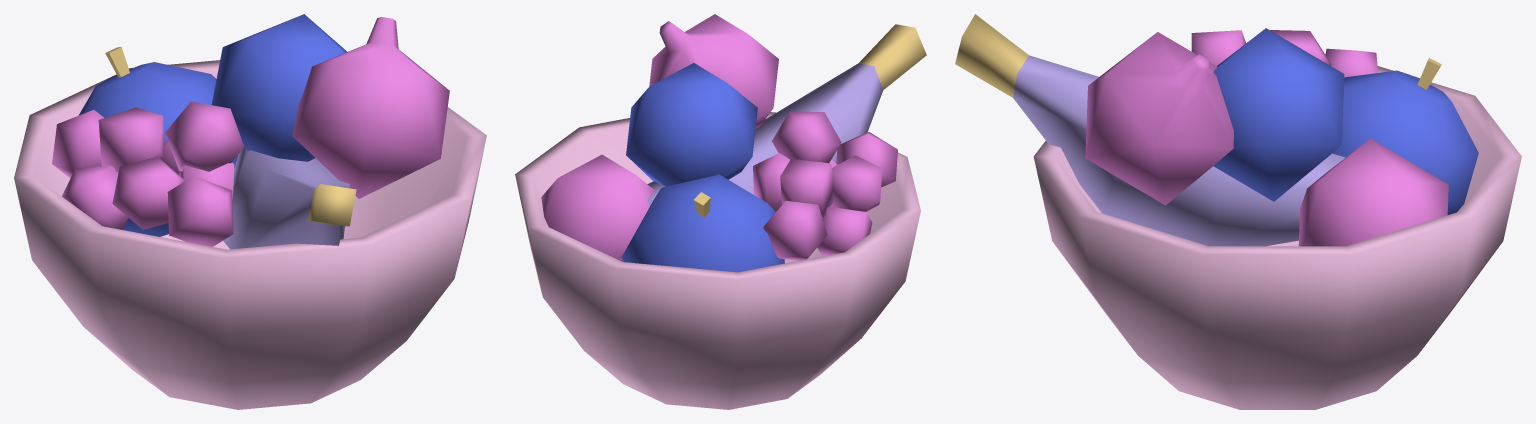
The model's file is Fruit.fbx.
3 renders of one model, left to right at view 1: azimuth 30°, elevation 25°; view 2: azimuth 150°, elevation 25°; view 3: azimuth 270°, elevation 25°, orthographic. The views are drawn at different scales.
Visible parts, largest first — view 1: Icosphere.002; view 2: Icosphere.002; view 3: Icosphere.002.
Part boxes in pixels (box(x1,y1,x2,y2)): Icosphere.002: box(14, 14, 486, 409); Icosphere.002: box(515, 14, 926, 409); Icosphere.002: box(955, 14, 1521, 409).
Size of the model in its own units: 24.92 by 20.84 by 30.42.
